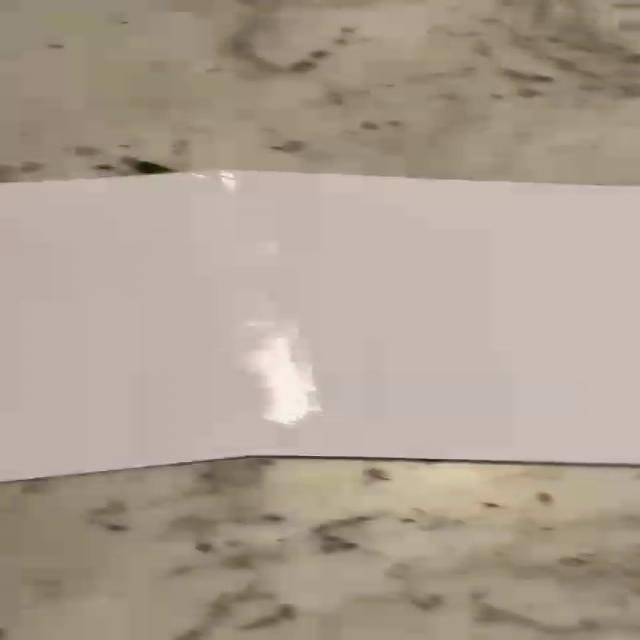road: (5, 170, 638, 482)
